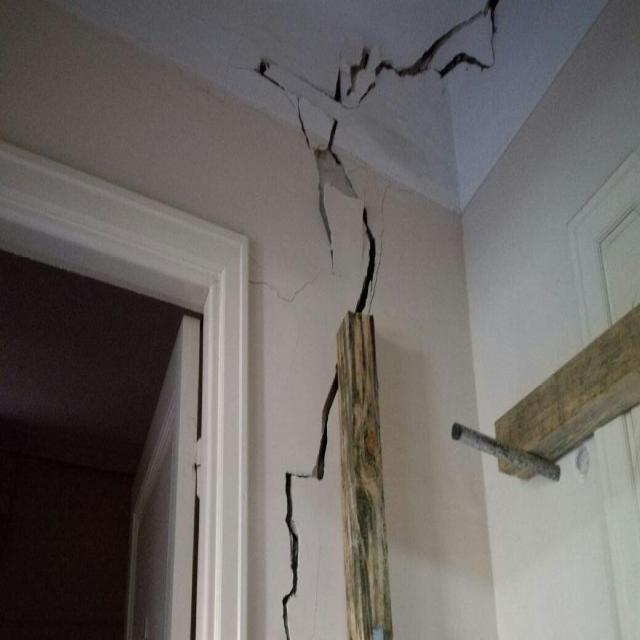crack: (253, 45, 379, 311), (280, 366, 341, 639), (356, 0, 500, 104), (347, 40, 372, 99)
